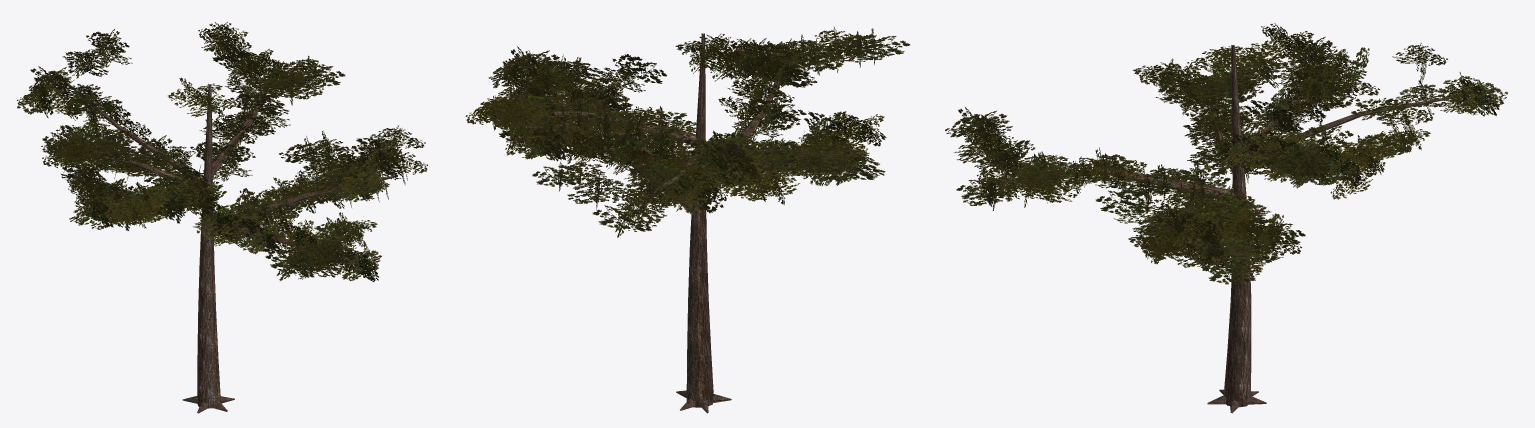
Rendered from tree_3d_05_lod1.glb.
The picture shows the model from 3 angles, left to right: view 1: azimuth 30°, elevation 25°; view 2: azimuth 150°, elevation 25°; view 3: azimuth 270°, elevation 25°; orthographic projection. The views are drawn at different scales.
Parts seen in each view (by area): view 1: foliage_cards, wood_geometry; view 2: foliage_cards, wood_geometry; view 3: foliage_cards, wood_geometry.
Part boxes in pixels (x1=…): foliage_cards: x1=17, y1=22, x2=427, y2=281; wood_geometry: x1=61, y1=74, x2=397, y2=413; foliage_cards: x1=465, y1=27, x2=910, y2=237; wood_geometry: x1=522, y1=33, x2=849, y2=413; foliage_cards: x1=945, y1=23, x2=1507, y2=286; wood_geometry: x1=993, y1=45, x2=1455, y2=413.
Size of the model in its own units: 9.84 by 8.88 by 12.95.
Materials: 2 (2 with a texture image).
